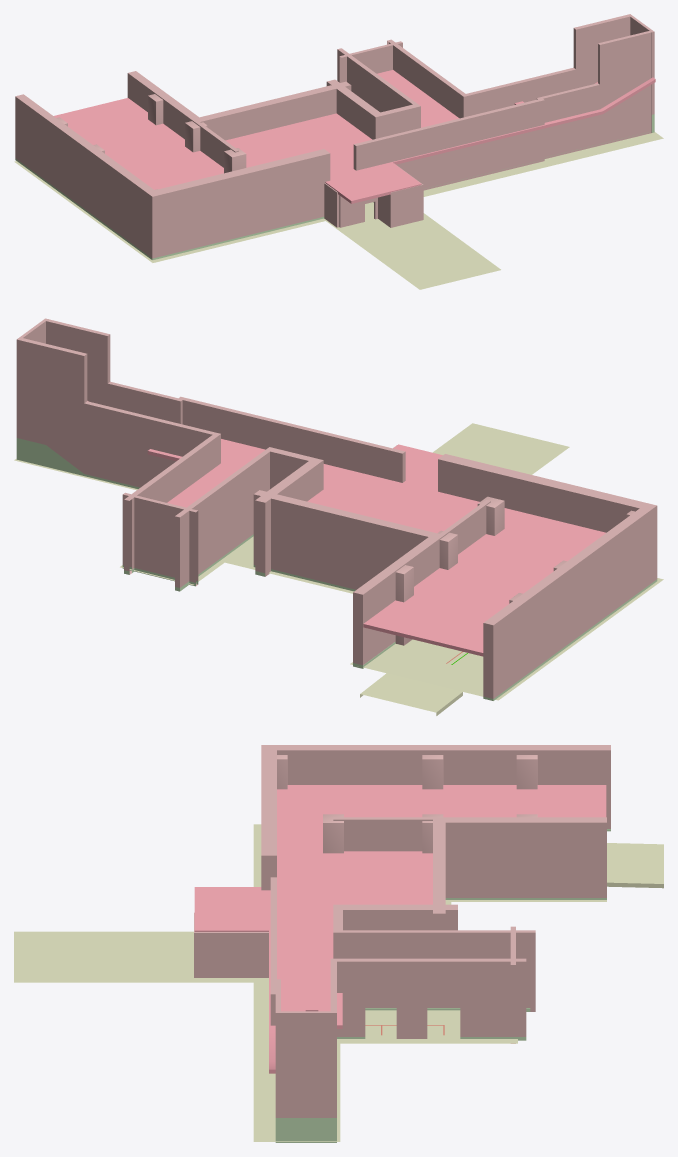
File: walls.fbx
3 views of the same model, one above another, from view 1: azimuth 30°, elevation 25°; view 2: azimuth 150°, elevation 25°; view 3: azimuth 270°, elevation 25° (orthographic). The views are drawn at different scales.
Parts seen in each view (by area): view 1: Cube.006, Cube.003, ceilling.001, Plane, Cube.012, Cube.076, ceilling.004, Cube.103, Cube.026, Cube.037, Cube.102, Cube.020 (+5 smaller); view 2: Cube.006, ceilling.001, Cube.012, Cube.076, Plane, Cube.003, Cube.103, Cube.020, Cube.037, ceilling.004, Cube.102, entrance_big_pillar.002 (+2 smaller); view 3: ceilling.001, Cube.012, Plane, Cube.076, Cube.006, Cube.103, Cube.007, ceilling.004, Cube.037, Cube.003, entrance_big_pillar.005, entrance_big_pillar (+1 smaller).
Boxes of the visible parts, <box> form: Cube.006: <box>15,94,330,260</box>; Cube.003: <box>353,31,651,202</box>; ceilling.001: <box>54,70,655,189</box>; Plane: <box>14,132,663,289</box>; Cube.012: <box>387,14,654,132</box>; Cube.076: <box>127,71,351,167</box>; ceilling.004: <box>325,162,421,203</box>; Cube.103: <box>337,48,416,112</box>; Cube.026: <box>378,184,423,227</box>; Cube.037: <box>326,79,379,138</box>; Cube.102: <box>372,103,420,139</box>; Cube.020: <box>339,41,402,82</box>; Cube.006: <box>438,454,657,700</box>; ceilling.001: <box>87,401,605,656</box>; Cube.012: <box>16,318,220,574</box>; Cube.076: <box>253,490,490,668</box>; Plane: <box>14,423,663,715</box>; Cube.003: <box>46,319,405,482</box>; Cube.103: <box>175,450,269,591</box>; Cube.020: <box>122,492,198,586</box>; Cube.037: <box>255,461,318,576</box>; ceilling.004: <box>393,444,442,487</box>; Cube.102: <box>265,447,323,492</box>; entrance_big_pillar.002: <box>395,565,413,645</box>; ceilling.001: <box>269,785,606,1073</box>; Cube.012: <box>275,958,526,1142</box>; Plane: <box>14,824,663,1141</box>; Cube.076: <box>333,817,606,913</box>; Cube.006: <box>261,745,610,890</box>; Cube.103: <box>343,930,535,1011</box>; Cube.007: <box>195,932,268,977</box>; ceilling.004: <box>194,887,268,931</box>; Cube.037: <box>343,904,457,930</box>; Cube.003: <box>270,877,280,1025</box>; entrance_big_pillar.005: <box>323,814,343,853</box>; entrance_big_pillar: <box>422,755,443,789</box>.
Size of the model in its own units: 5868 by 1153 by 5075.
